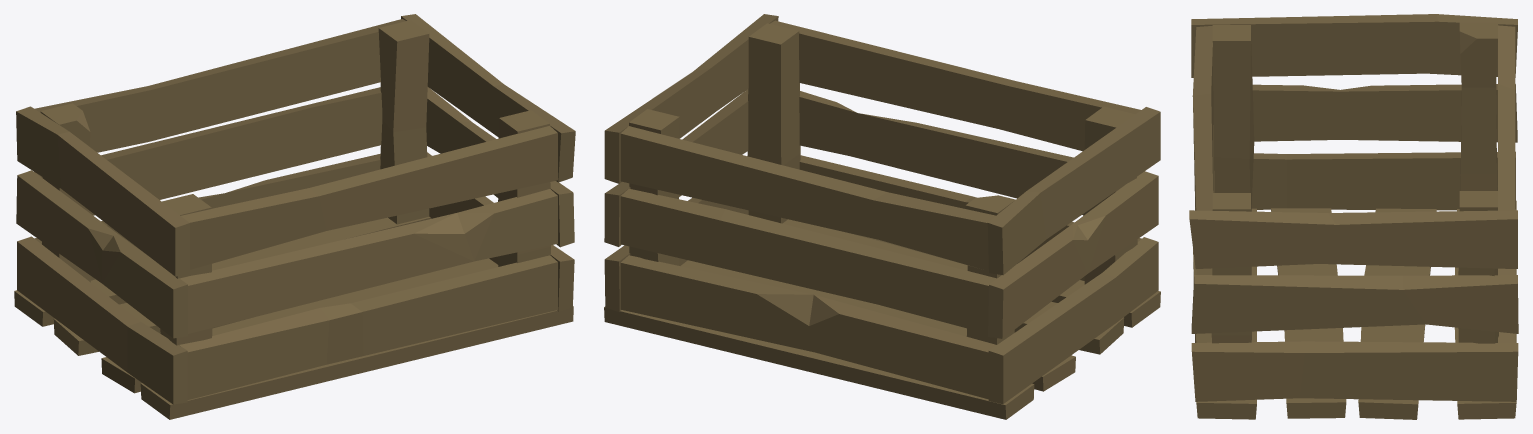
File: Crate_3.fbx
The picture shows the model from 3 angles, left to right: view 1: azimuth 30°, elevation 25°; view 2: azimuth 150°, elevation 25°; view 3: azimuth 270°, elevation 25°; orthographic projection. The views are drawn at different scales.
Visible parts, largest first — view 1: Crate_3; view 2: Crate_3; view 3: Crate_3.
Part boxes in pixels (x1,y1,x2,y2): Crate_3: (14, 14, 575, 419); Crate_3: (604, 14, 1160, 419); Crate_3: (1189, 14, 1518, 419).
Bounding box in the file's own units: 65.83 × 30.56 × 44.58.
